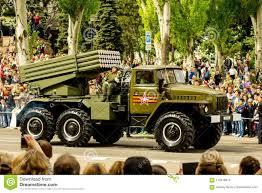MIL_SAM_TEL: (18, 46, 230, 153)
